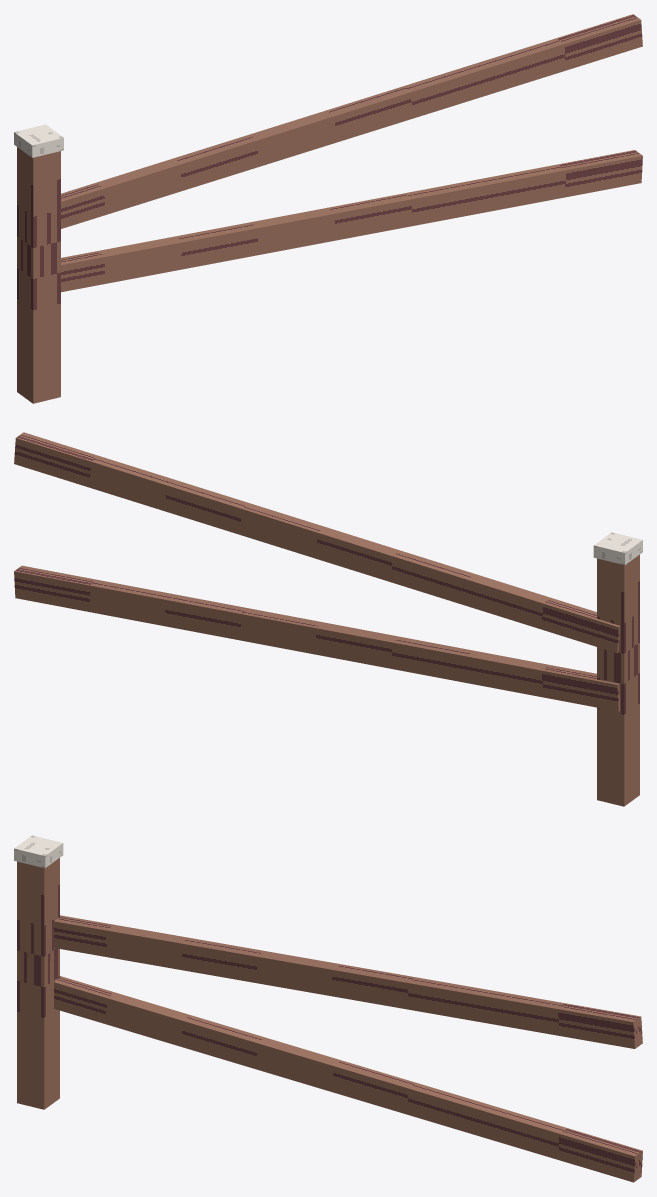
The model's file is Split Rail Fence.fbx.
3 renders of one model, top to bottom at view 1: azimuth 30°, elevation 25°; view 2: azimuth 150°, elevation 25°; view 3: azimuth 330°, elevation 25°, orthographic.
Visible parts, largest first — view 1: Split Rail Fence rail 1, Split Rail Fence rail 0, Split Rail Fence post, Split Rail Fence post cap; view 2: Split Rail Fence rail 1, Split Rail Fence rail 0, Split Rail Fence post, Split Rail Fence post cap; view 3: Split Rail Fence rail 0, Split Rail Fence rail 1, Split Rail Fence post, Split Rail Fence post cap.
Part boxes in pixels (x1,y1,x2,y2): Split Rail Fence rail 1: (61,14,642,228); Split Rail Fence rail 0: (61,150,642,292); Split Rail Fence post: (17,147,60,403); Split Rail Fence post cap: (14,124,63,157); Split Rail Fence rail 1: (14,432,620,652); Split Rail Fence rail 0: (14,565,620,711); Split Rail Fence post: (597,554,639,806); Split Rail Fence post cap: (593,532,642,565); Split Rail Fence rail 0: (54,976,642,1182); Split Rail Fence rail 1: (54,915,642,1048); Split Rail Fence post: (17,858,59,1109); Split Rail Fence post cap: (14,835,63,868).
Bounding box in the file's own units: 3.13 × 1.25 × 0.165.
Materials: 2 (2 with a texture image).
